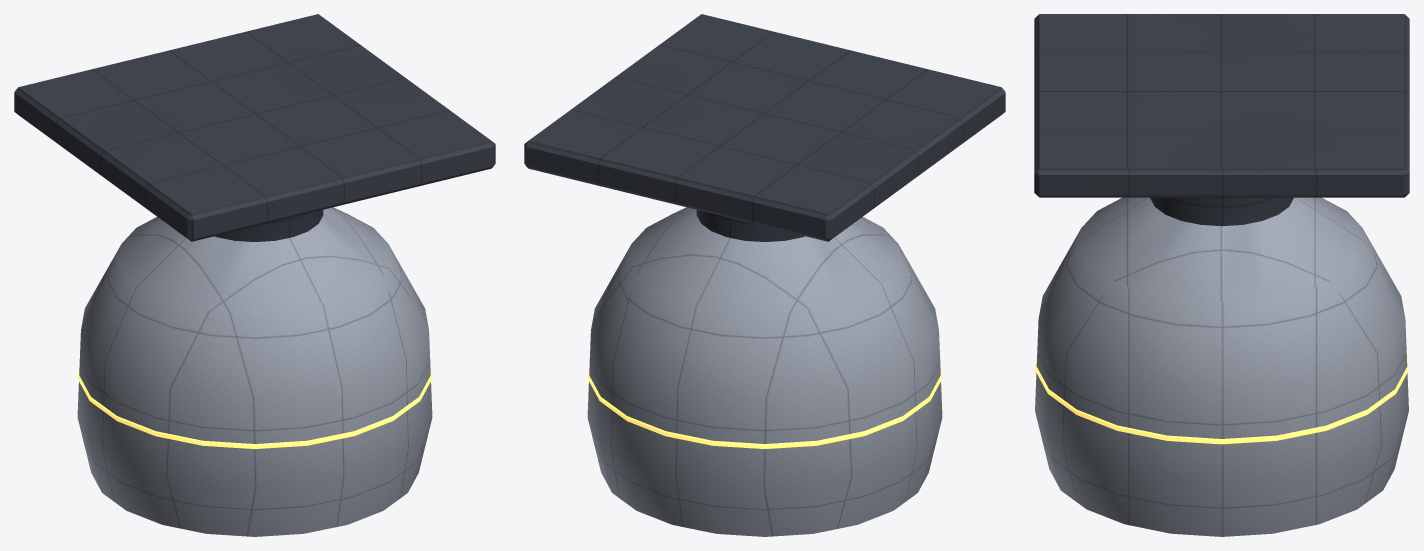
File: R4M_HoverEngine_LOD1.glb
The picture shows the model from 3 angles, left to right: view 1: azimuth 30°, elevation 25°; view 2: azimuth 150°, elevation 25°; view 3: azimuth 270°, elevation 25°; orthographic projection. The views are drawn at different scales.
Parts seen in each view (by area): view 1: R4M_HoverEngine_LOD1; view 2: R4M_HoverEngine_LOD1; view 3: R4M_HoverEngine_LOD1.
Boxes of the visible parts, bbox=[...] form: R4M_HoverEngine_LOD1: bbox=[14, 14, 495, 536]; R4M_HoverEngine_LOD1: bbox=[524, 14, 1005, 536]; R4M_HoverEngine_LOD1: bbox=[1034, 14, 1409, 536].
Bounding box in the file's own units: 0.52 × 0.577 × 0.52.
5 materials, 4 textured.
